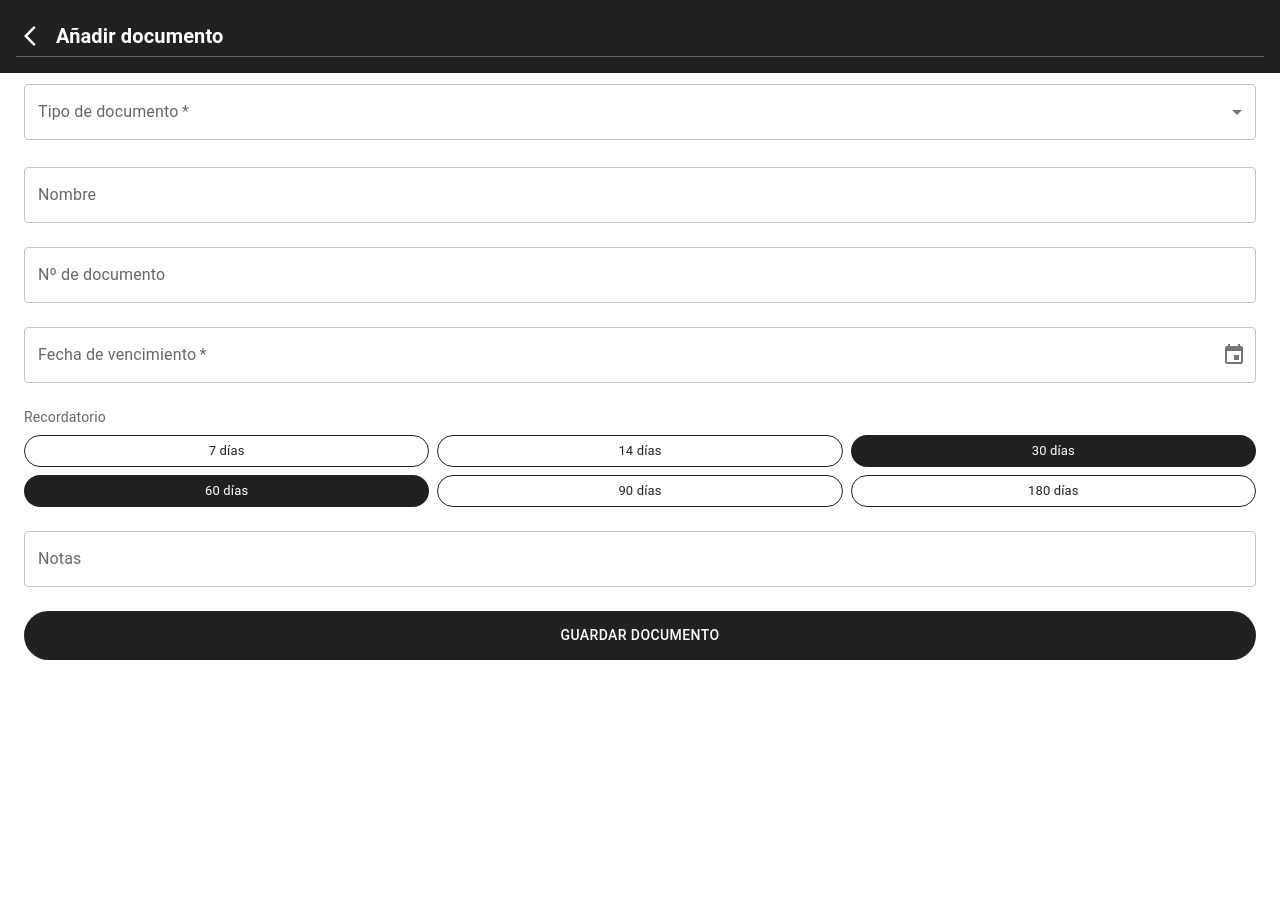
Test: AddDocument › shows error when name has less than 2 characters
Type "a" into the field labelled "Nombre" at (640, 195), box x1=24 y1=167 x2=1256 y2=223
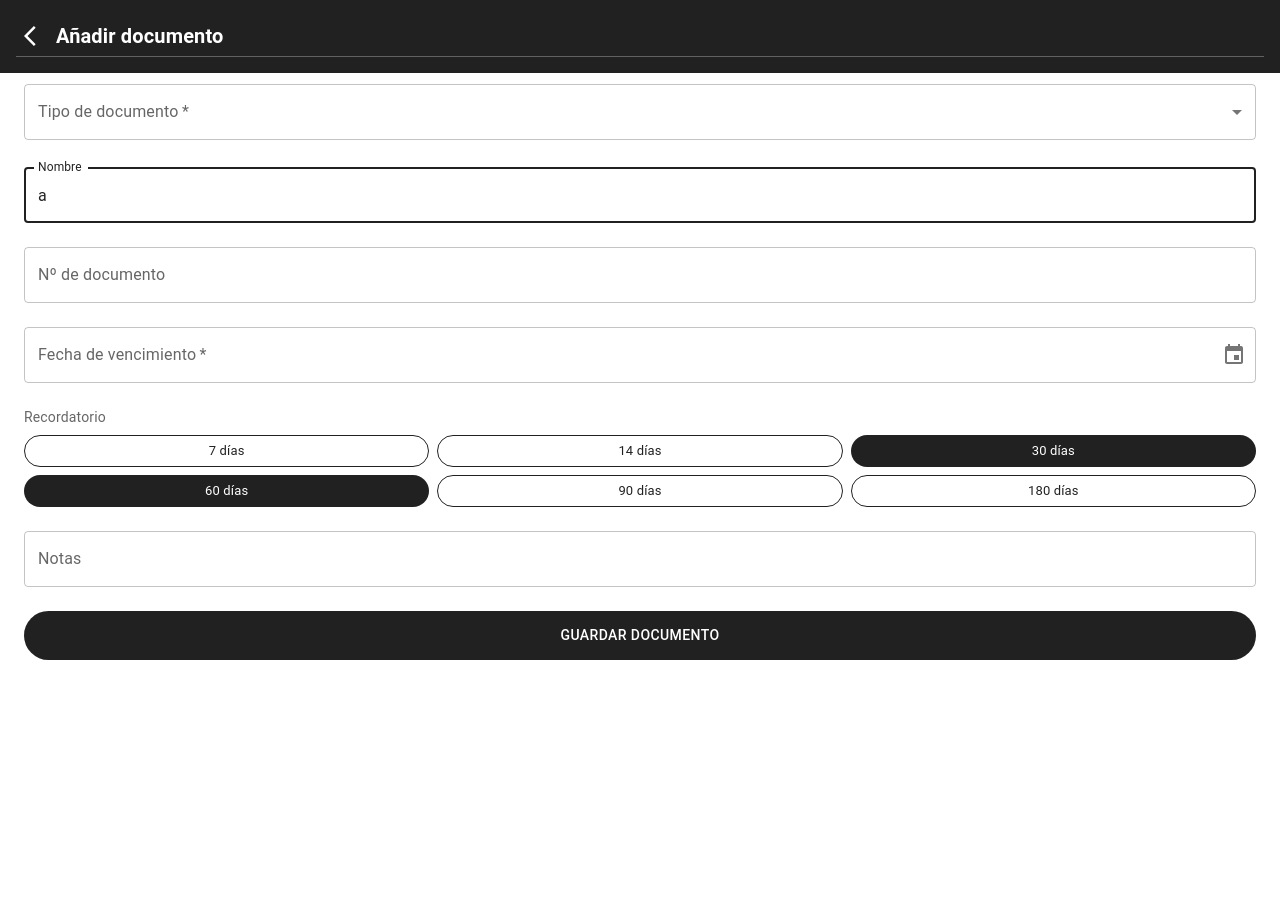
Click the button "Guardar documento" at (640, 635), box x1=24 y1=611 x2=1256 y2=660
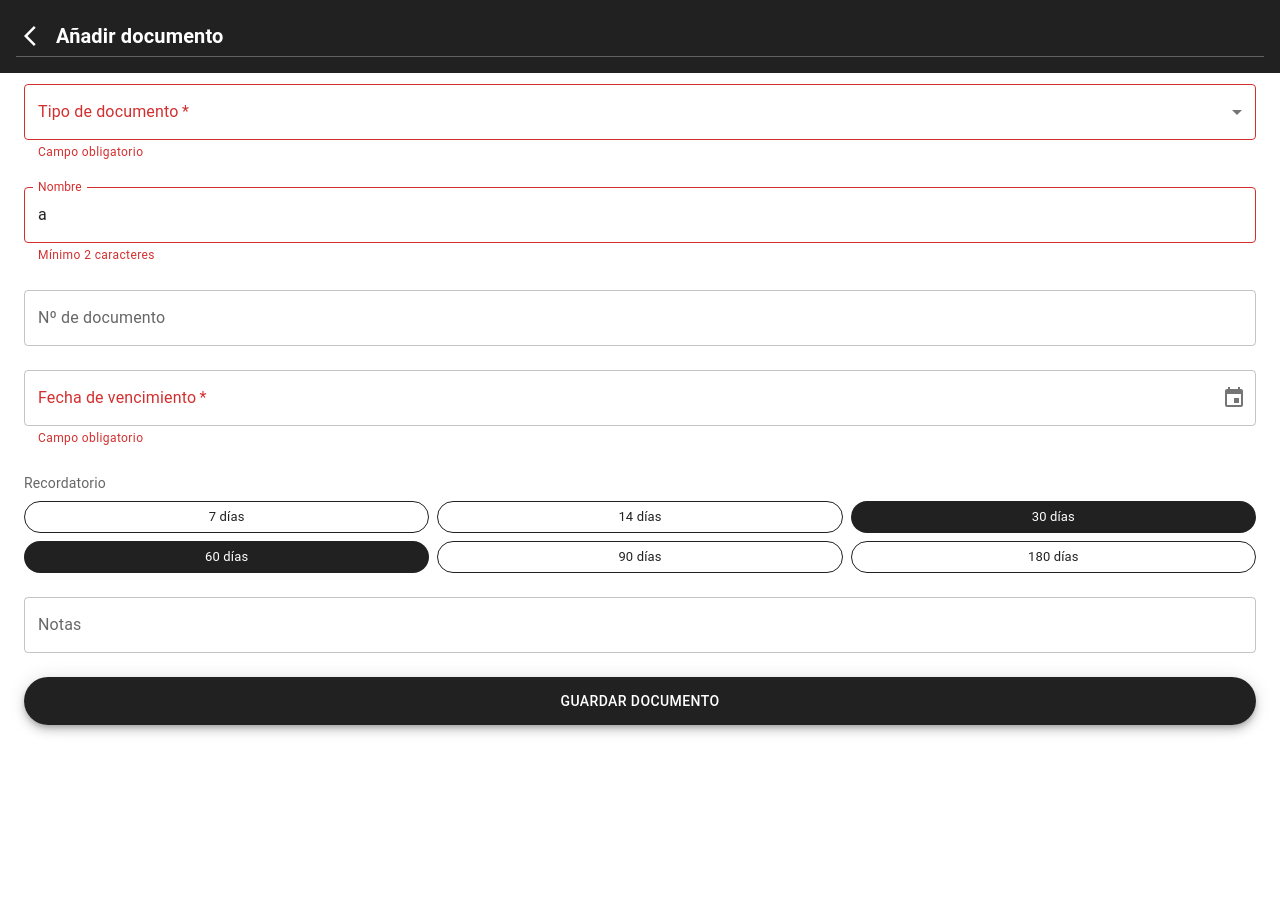
Expected: the text "Mínimo 2 caracteres" is shown, x1=38 y1=248 x2=155 y2=262
